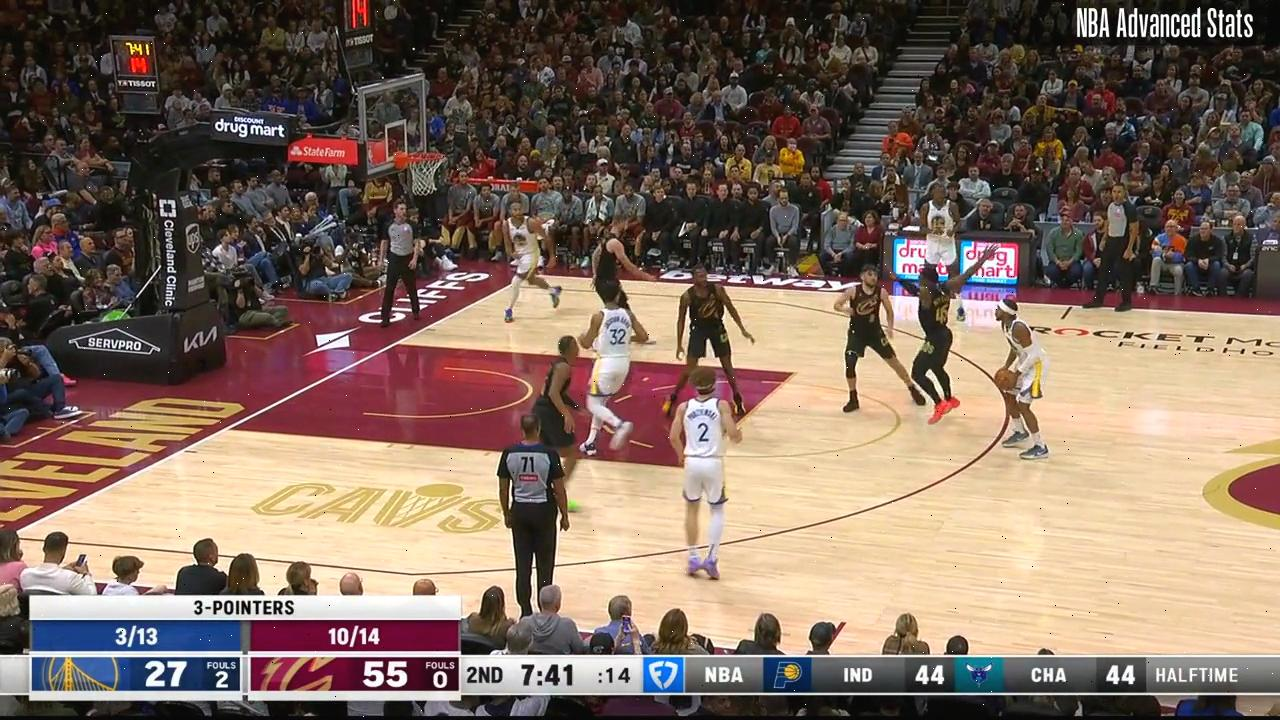basketball: (991, 364, 1015, 395)
